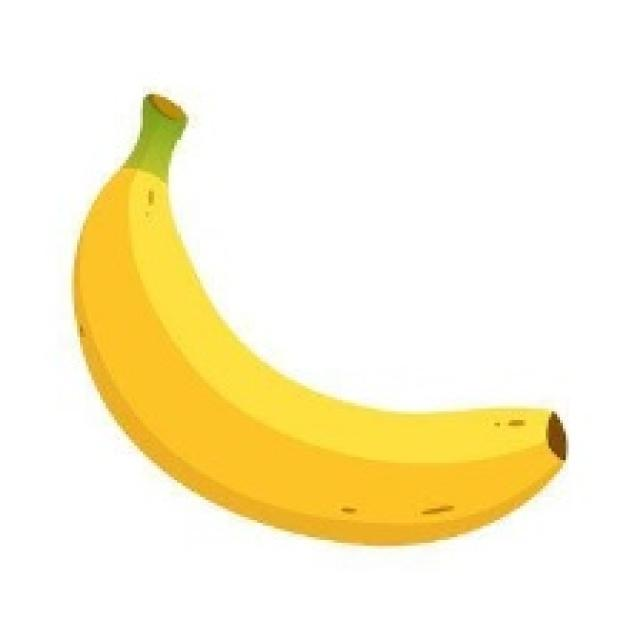Banana: (71, 91, 566, 546)
